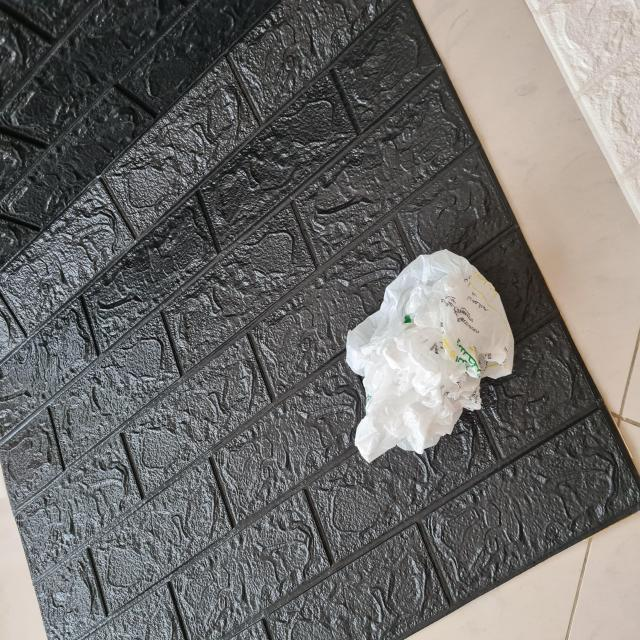plastic bag: (345, 248, 518, 462)
